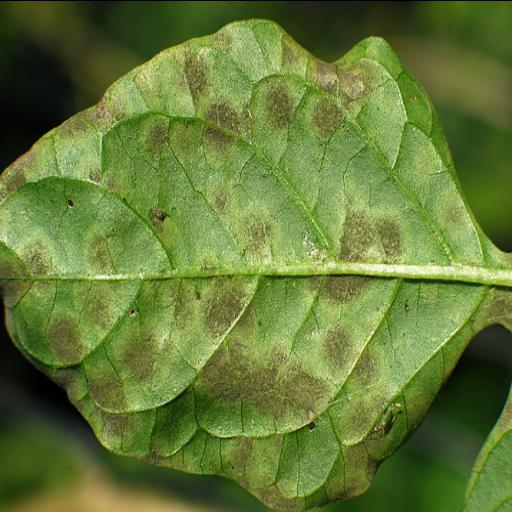Leaf Mold: (0, 9, 487, 512)
